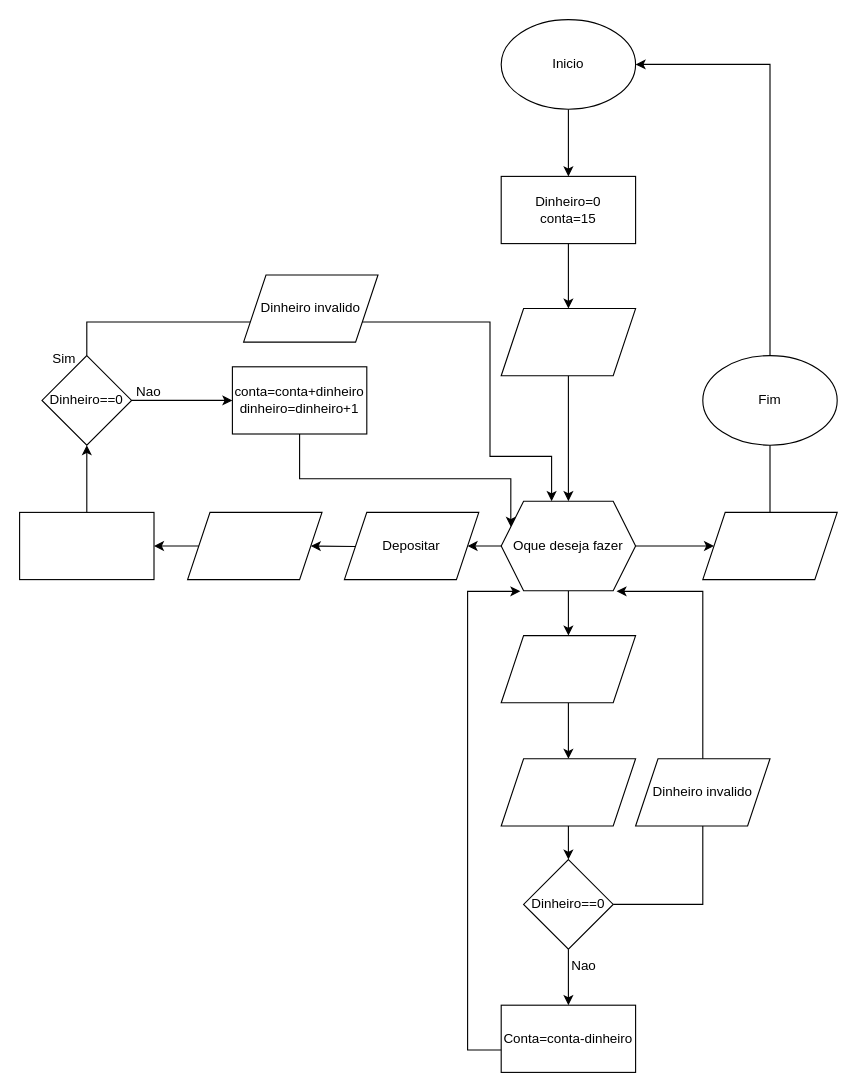
Image size: 857x1092. Some labels were removed from this diagram. The box of each missing label's shape, as (x1, y1, x2, y2) in pixels:
Ler cartao && Ler senha: (500, 307, 636, 376)
Ler dinheiro: (18, 511, 154, 580)
levantar: (500, 634, 636, 703)
quanto deseja depositar?: (186, 511, 322, 580)
quanto deseja levantar?: (500, 758, 636, 826)
sair: (702, 511, 837, 580)
